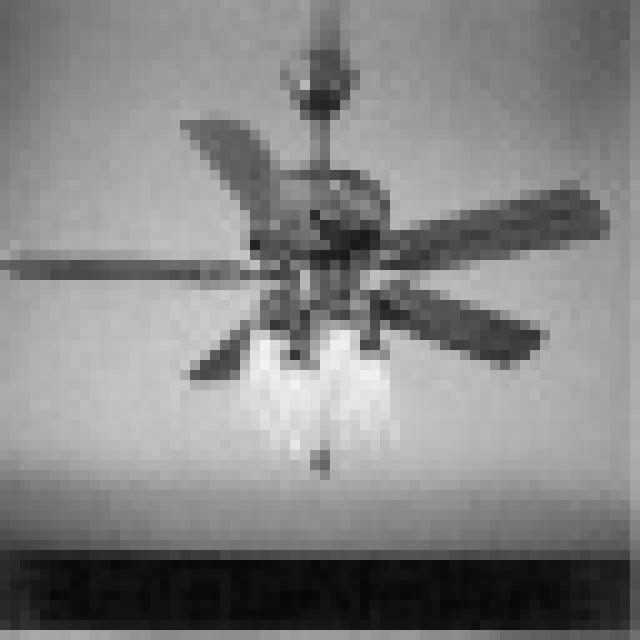Bulb: (9, 107, 640, 419)
